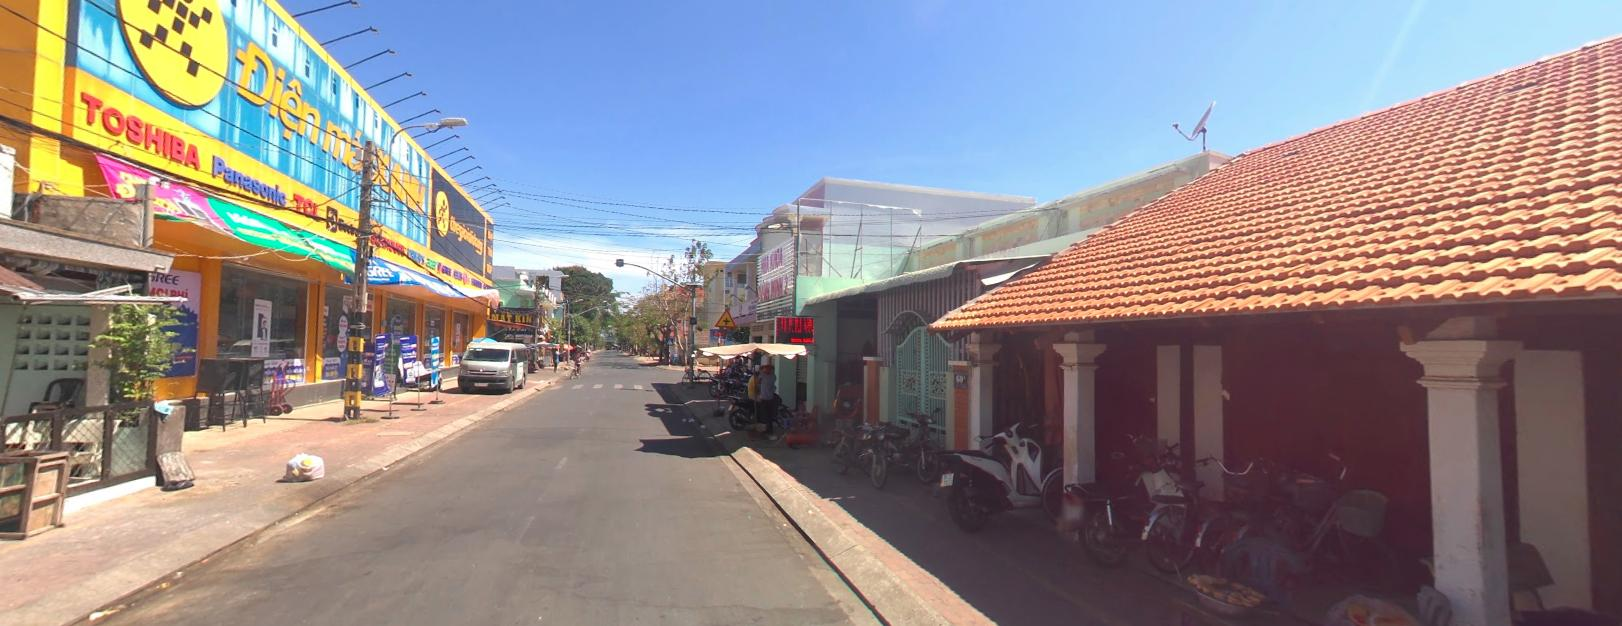Nguy hiem: (714, 307, 735, 325)
